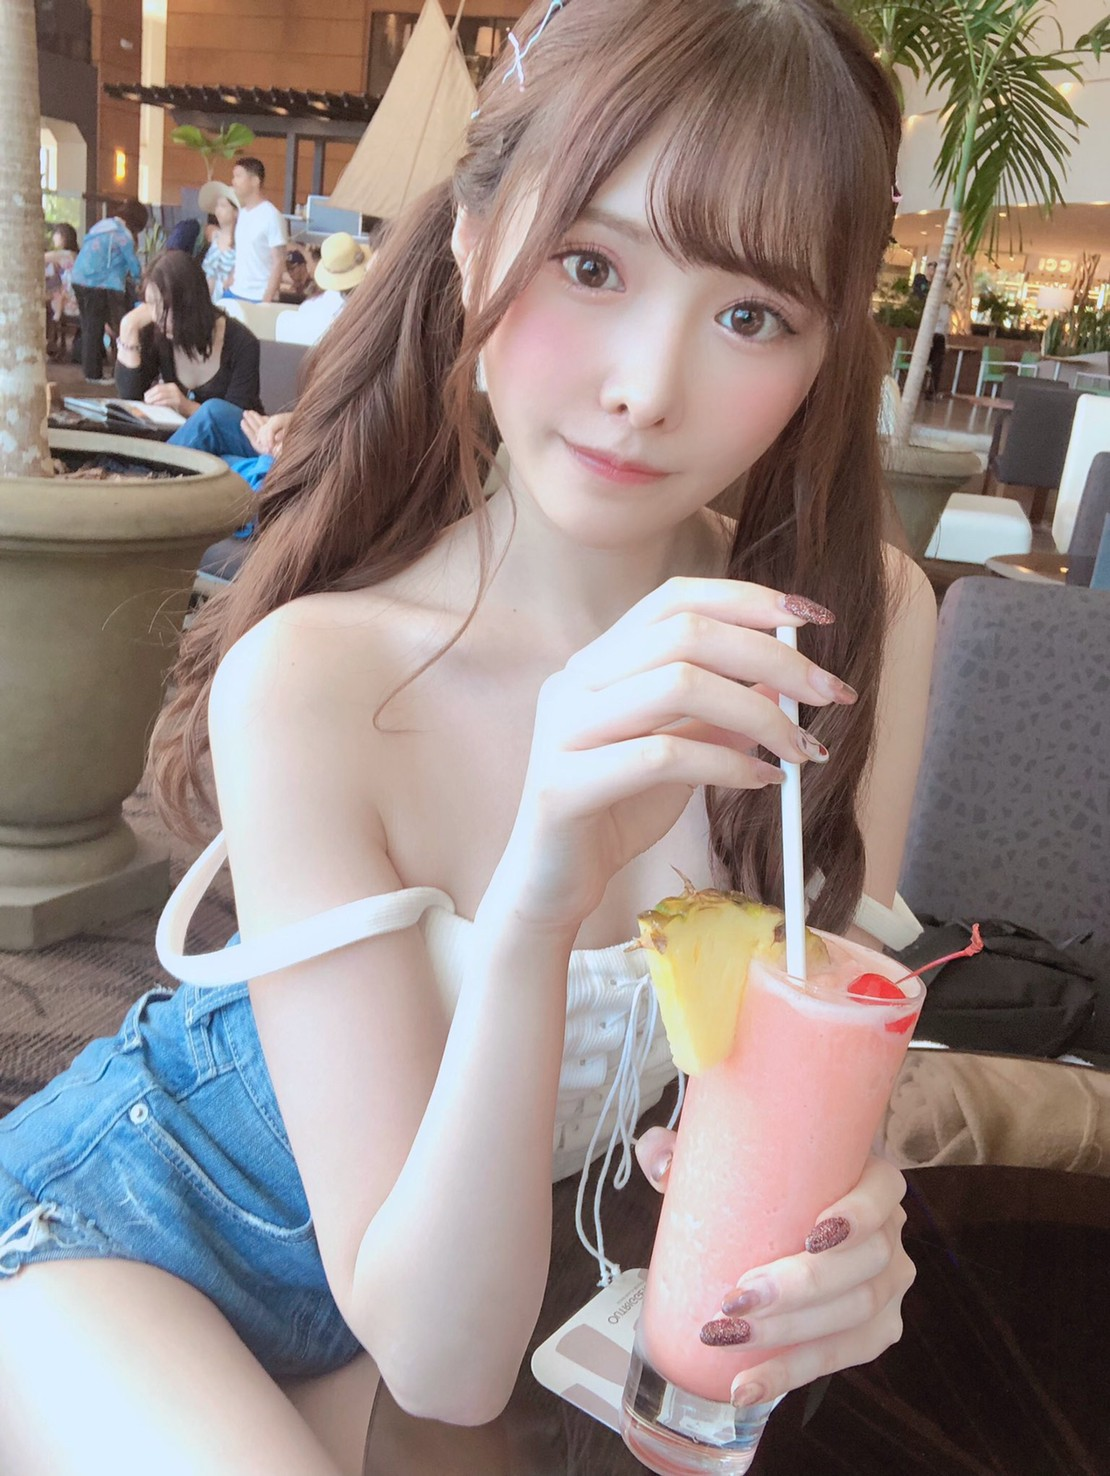people: (270, 4, 872, 1476), (109, 232, 284, 434), (212, 141, 300, 315), (75, 197, 151, 371), (195, 176, 251, 276)
